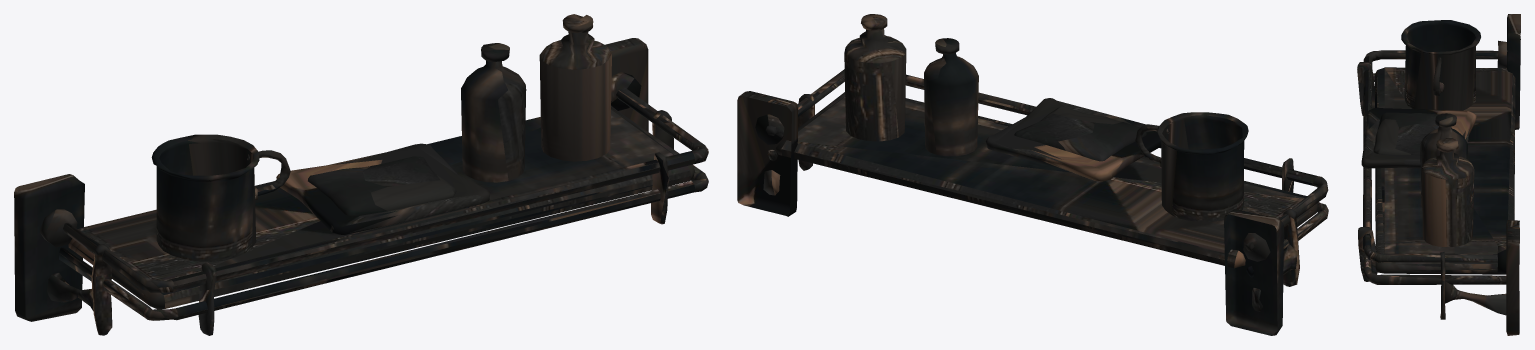
The model's file is Restroom3.fbx.
The picture shows the model from 3 angles, left to right: view 1: azimuth 30°, elevation 25°; view 2: azimuth 150°, elevation 25°; view 3: azimuth 270°, elevation 25°; orthographic projection. The views are drawn at different scales.
Parts seen in each view (by area): view 1: Restroom3; view 2: Restroom3; view 3: Restroom3.
Boxes of the visible parts, bbox=[...] form: Restroom3: bbox=[14, 14, 708, 335]; Restroom3: bbox=[737, 14, 1328, 335]; Restroom3: bbox=[1357, 14, 1520, 335].
Bounding box in the file's own units: 499 × 160 × 151.
